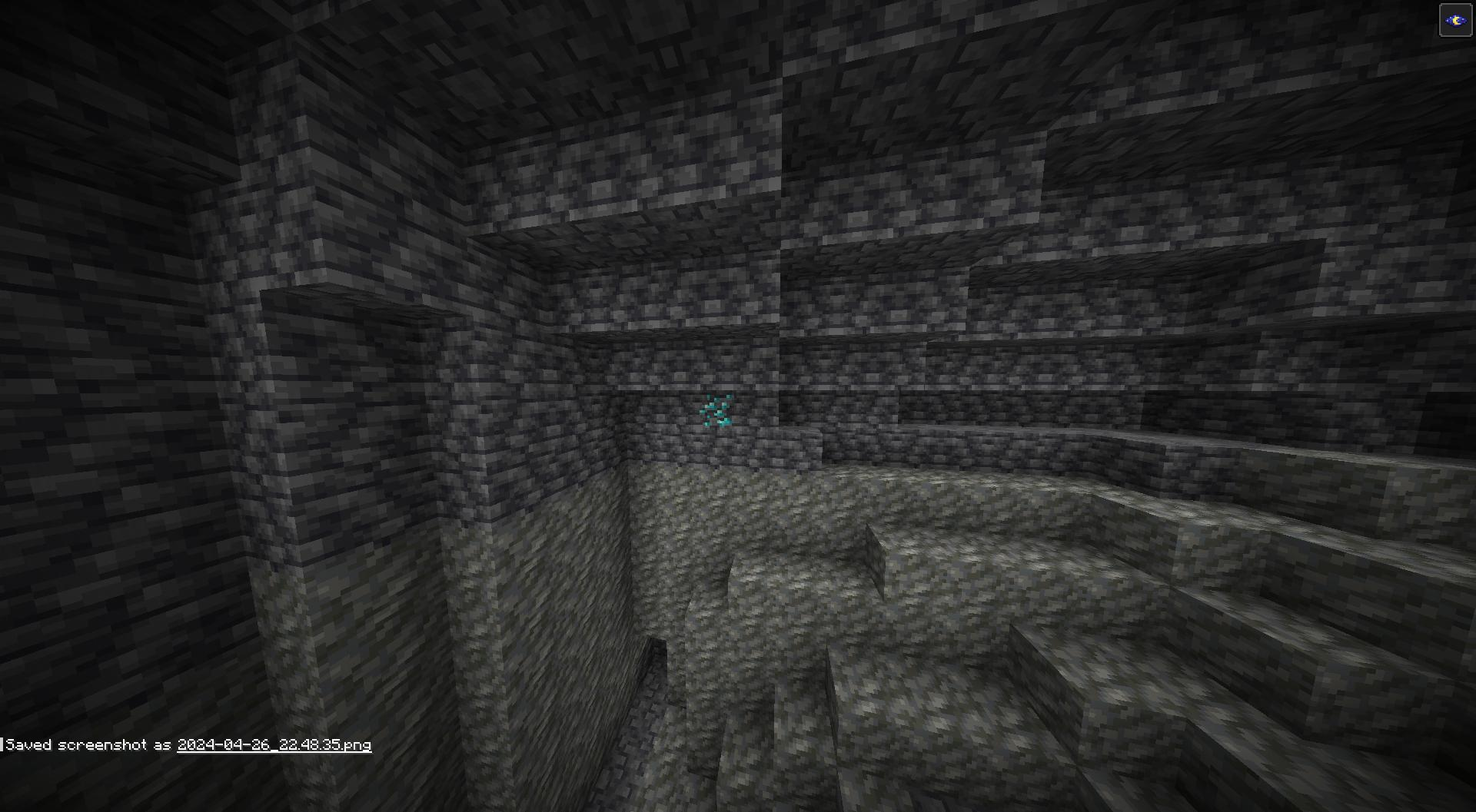diamond ore: (698, 391, 738, 430)
